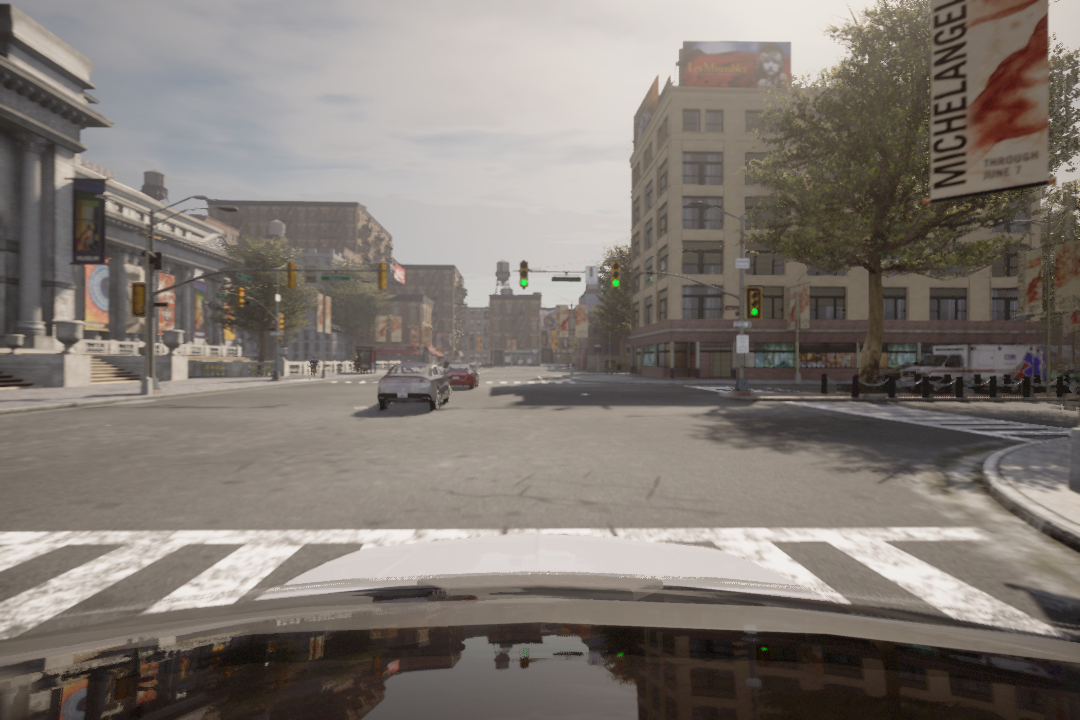TrafficLight: (747, 290, 762, 321), (607, 257, 621, 289), (517, 259, 531, 289)
walkside: (3, 529, 1078, 662)
